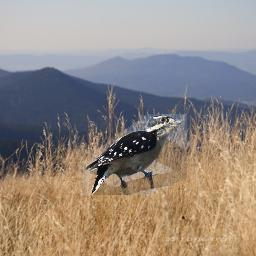Woodpecker: (83, 114, 187, 195)
